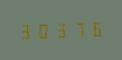seven: (69, 19, 85, 39)
six: (86, 19, 102, 38)
three: (18, 21, 34, 40), (52, 20, 68, 39)
zero: (35, 20, 51, 40)
